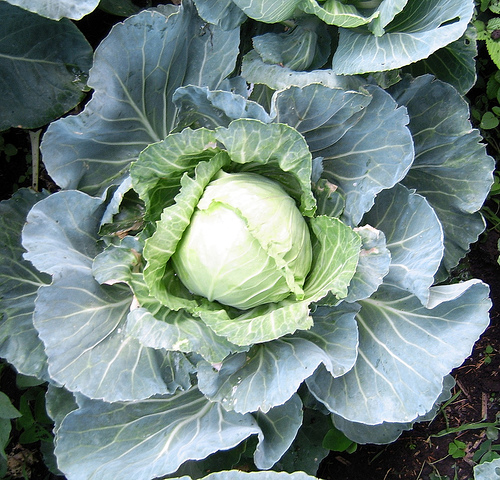cabbage: (20, 0, 497, 478)
